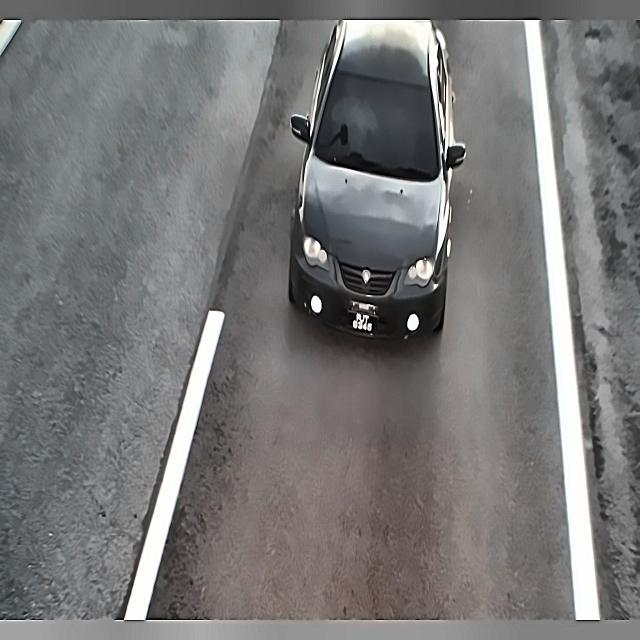car: (342, 302, 383, 345)
